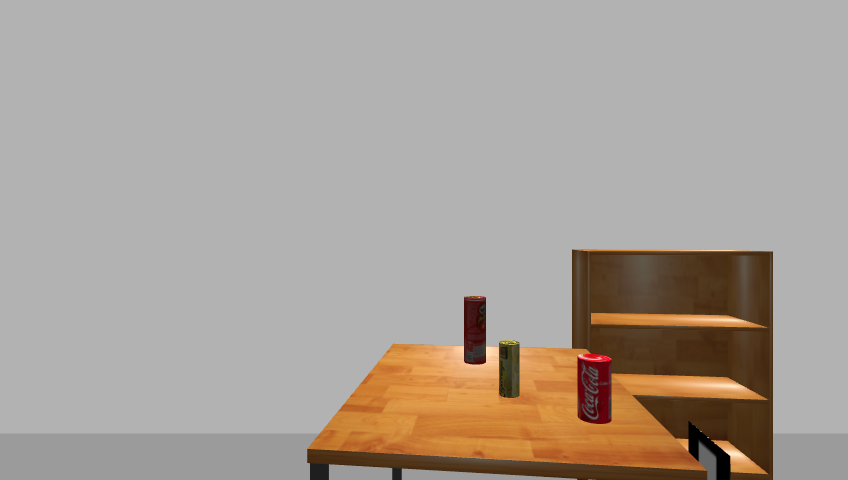aruco marker: (684, 422, 734, 480)
biscuits pack: (498, 340, 521, 400)
bookshelf: (566, 247, 781, 479)
coke can: (575, 354, 614, 424)
dinner table: (300, 342, 705, 479)
pringles can: (460, 295, 488, 366)
